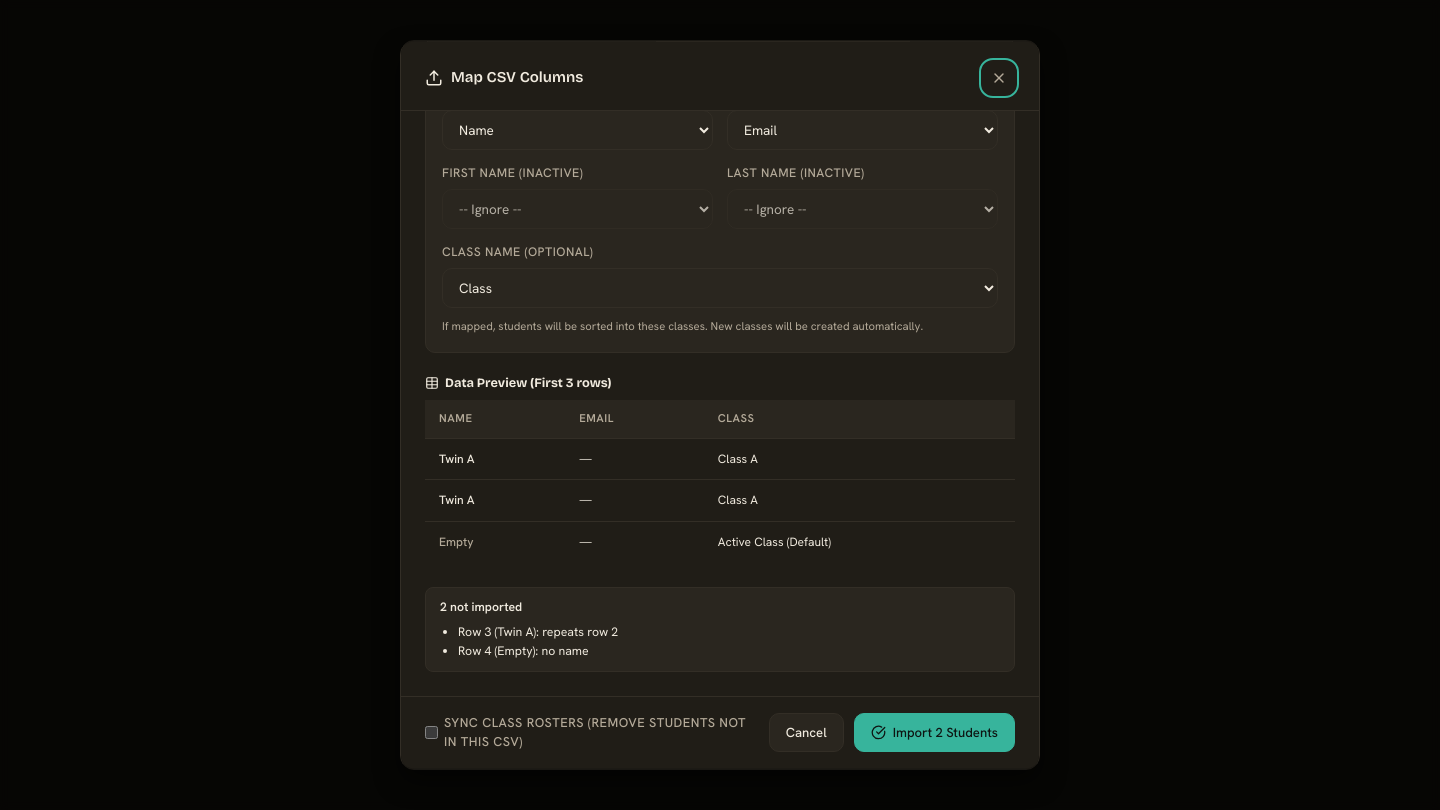
Scenario: CsvImportModal › lists skipped rows with reasons, counts only importable rows, and reports skips after importing (#653)
(page scrolled)
Check: the text "2 not imported" is shown, box [440, 599, 522, 615]
Check: the list item "Row 3 (Twin A): repeats row 2" is shown, box [458, 624, 618, 640]
Click the button "Import 2 Students" at (934, 733), box [854, 713, 1015, 753]
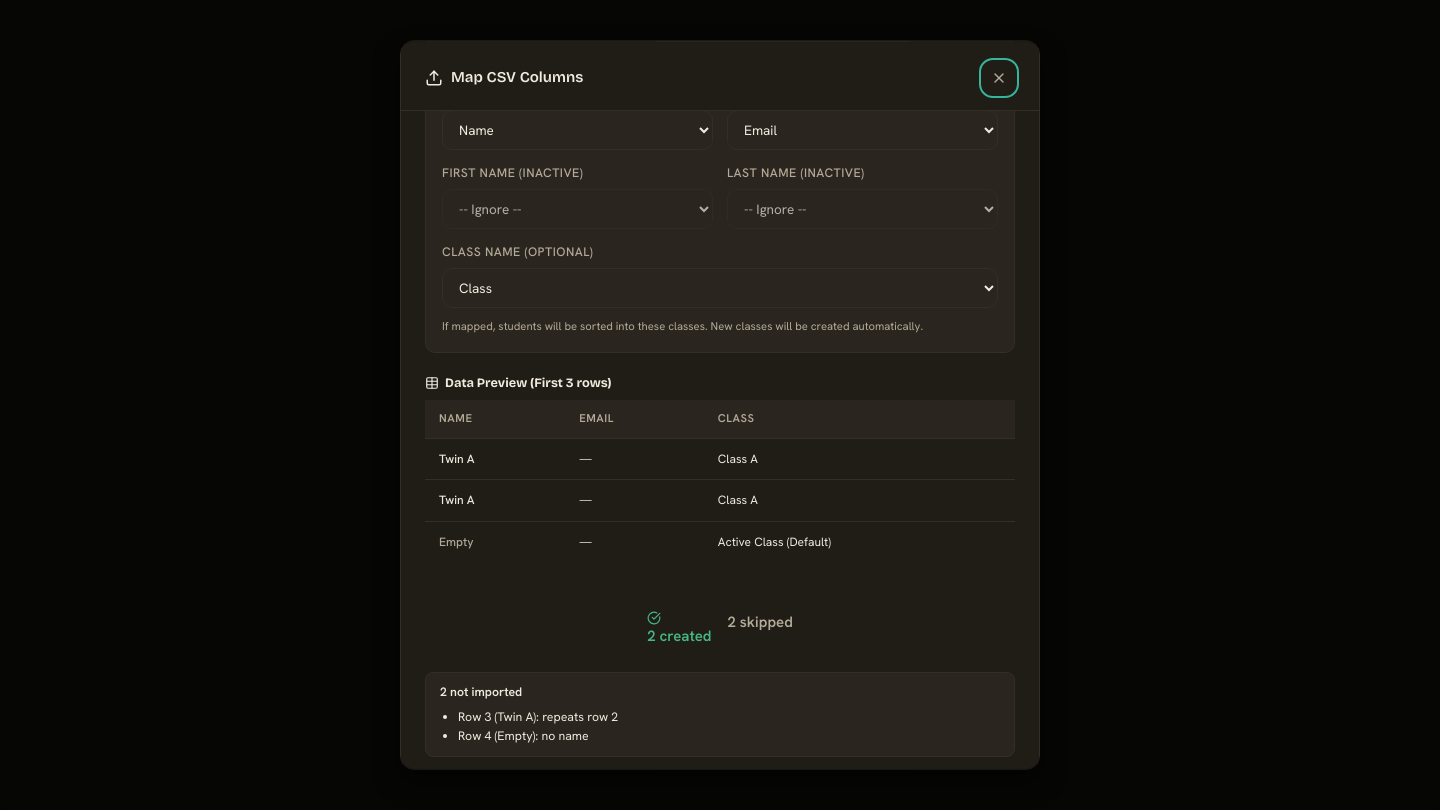
Check: the list item "Row 3 (Twin A): repeats row 2" is shown, box [458, 709, 618, 725]
Check: the text "2 skipped" is shown, box [728, 612, 793, 632]
